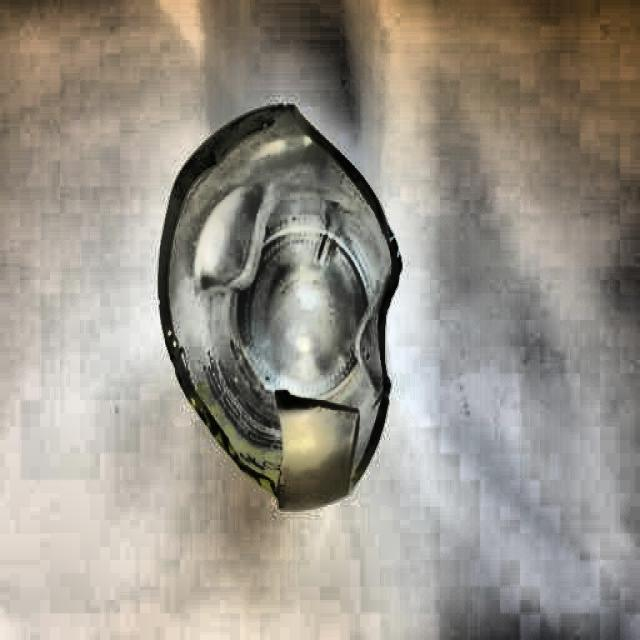glass: (156, 106, 402, 516)
